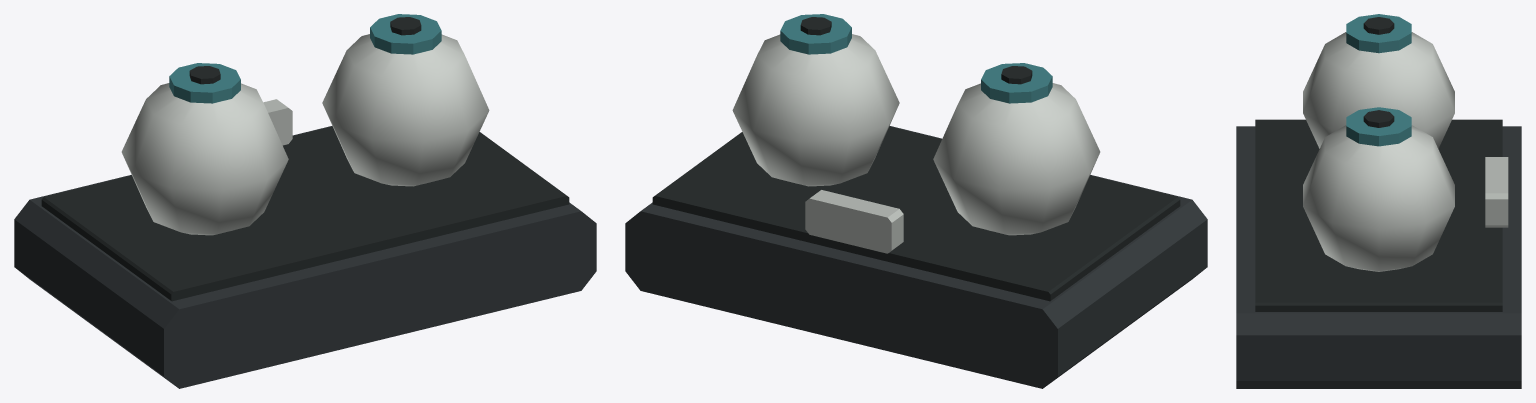
The model's file is BionicEyes.gltf.
3 views of the same model, side by side, from view 1: azimuth 30°, elevation 25°; view 2: azimuth 150°, elevation 25°; view 3: azimuth 270°, elevation 25° (orthographic). The views are drawn at different scales.
Parts seen in each view (by area): view 1: BionicEyes; view 2: BionicEyes; view 3: BionicEyes.
Part boxes in pixels (x1,y1,x2,y2): BionicEyes: (14,14,596,388); BionicEyes: (625,14,1207,388); BionicEyes: (1236,14,1521,388).
Bounding box in the file's own units: 0.25 × 0.131 × 0.15.
